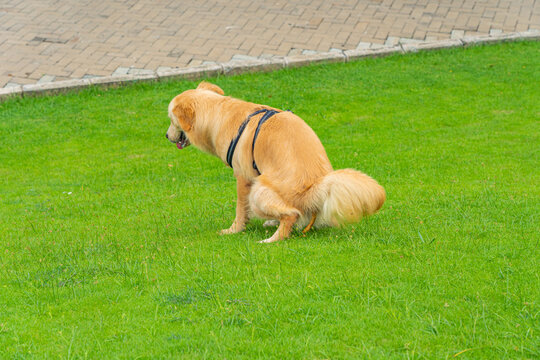dog_pooping: (162, 77, 390, 246)
